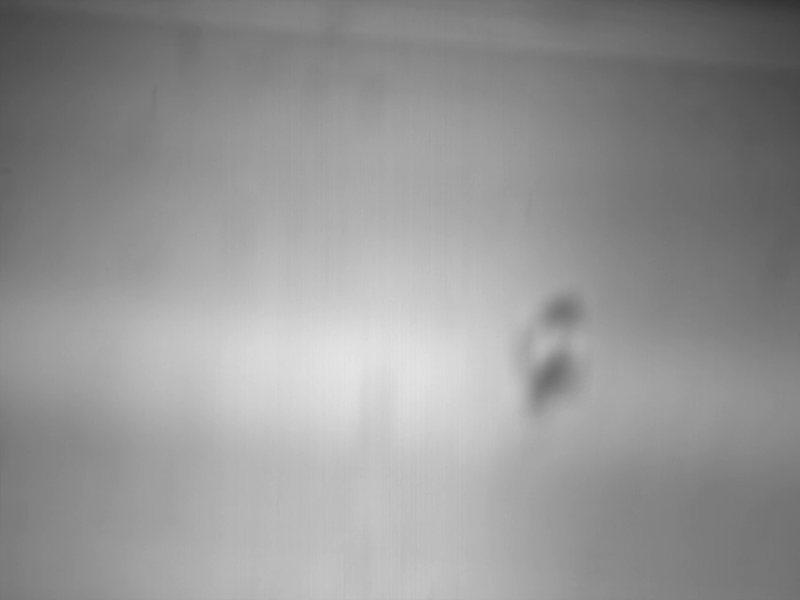bead: (509, 292, 601, 417)
